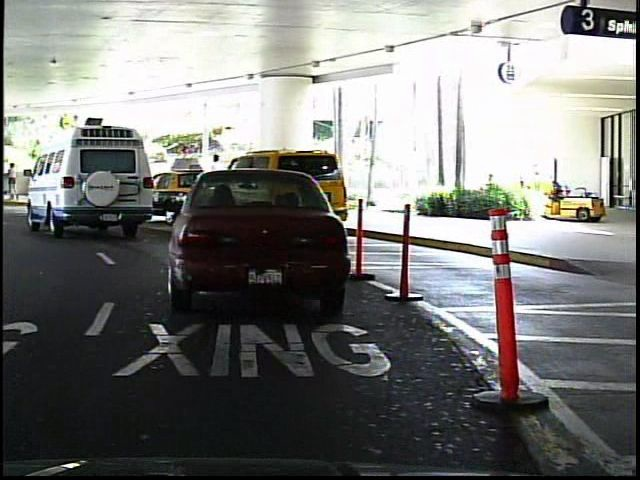person: (206, 150, 230, 211), (39, 156, 57, 200), (4, 160, 21, 201)
